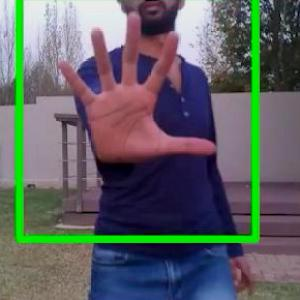follow_hand: (54, 12, 217, 168)
